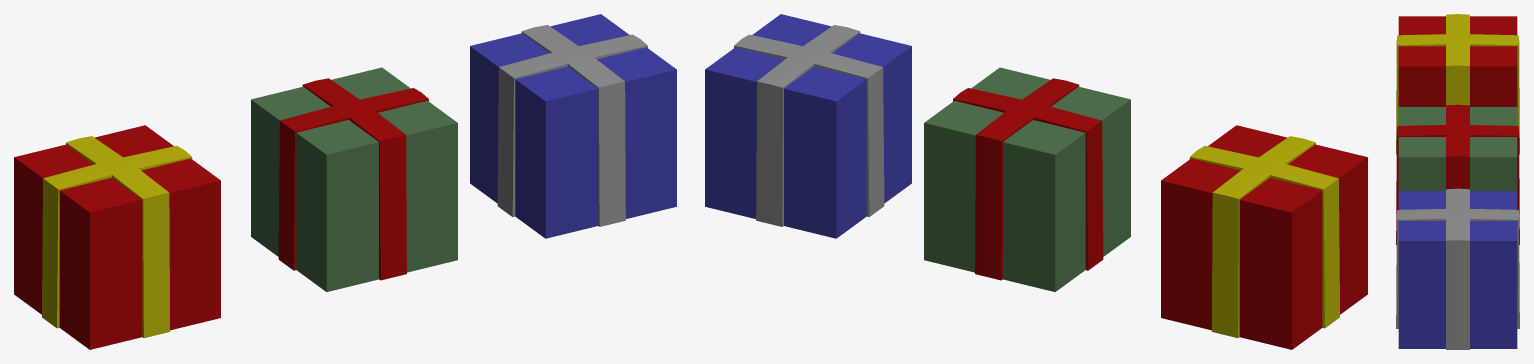
File: cadeaux.fbx
3 views of the same model, side by side, from view 1: azimuth 30°, elevation 25°; view 2: azimuth 150°, elevation 25°; view 3: azimuth 270°, elevation 25° (orthographic). The views are drawn at different scales.
Parts seen in each view (by area): view 1: pCube2, pCube1, pCube3; view 2: pCube2, pCube1, pCube3; view 3: pCube1, pCube3, pCube2.
Boxes of the visible parts, x1,y1,x2,y2 form: pCube2: (251,67,457,291); pCube1: (470,14,676,238); pCube3: (14,125,220,349); pCube2: (924,67,1130,291); pCube1: (705,14,911,238); pCube3: (1161,125,1367,349); pCube1: (1396,188,1519,349); pCube3: (1396,14,1519,154); pCube2: (1396,104,1519,244).
Bounding box in the file's own units: 4.51 × 1.02 × 1.04.
